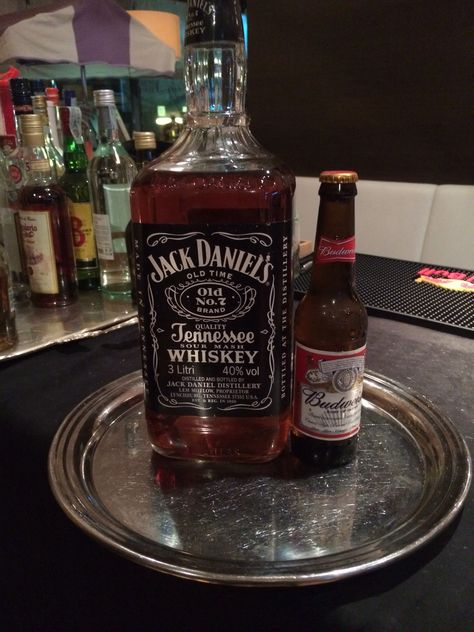Jack Daniel: (111, 1, 306, 476)
